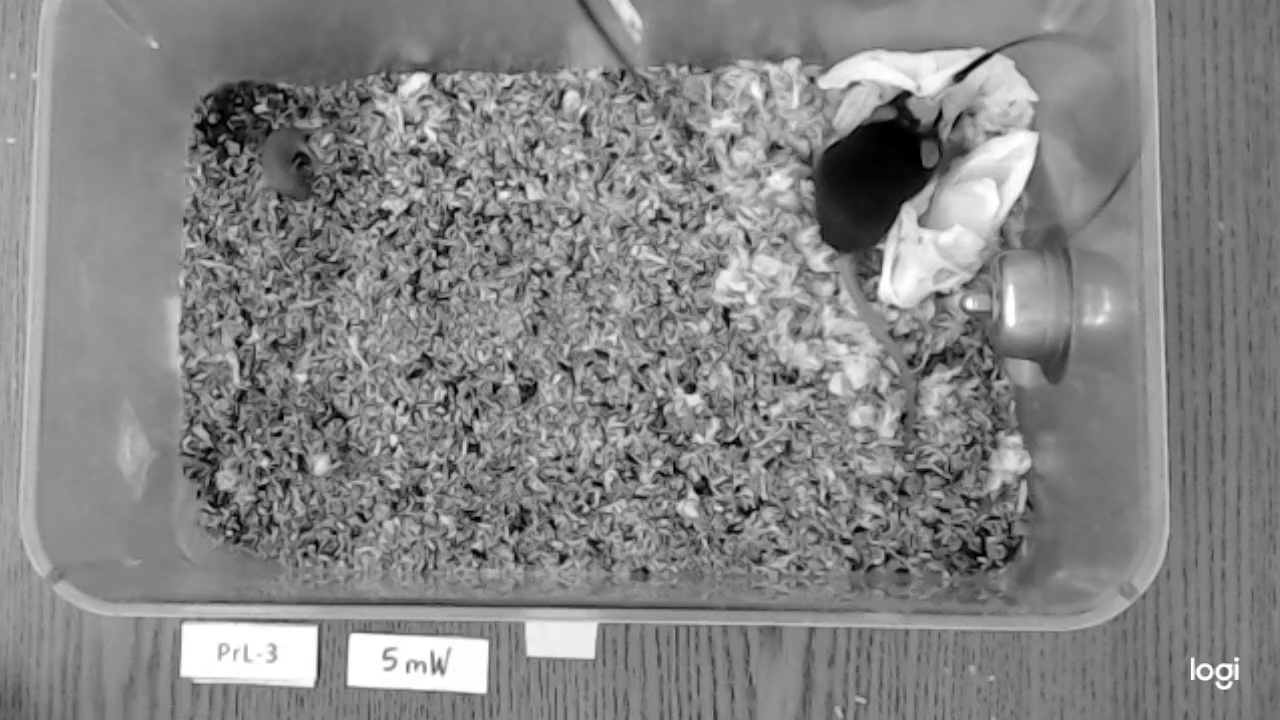child-mice: (255, 127, 320, 200)
